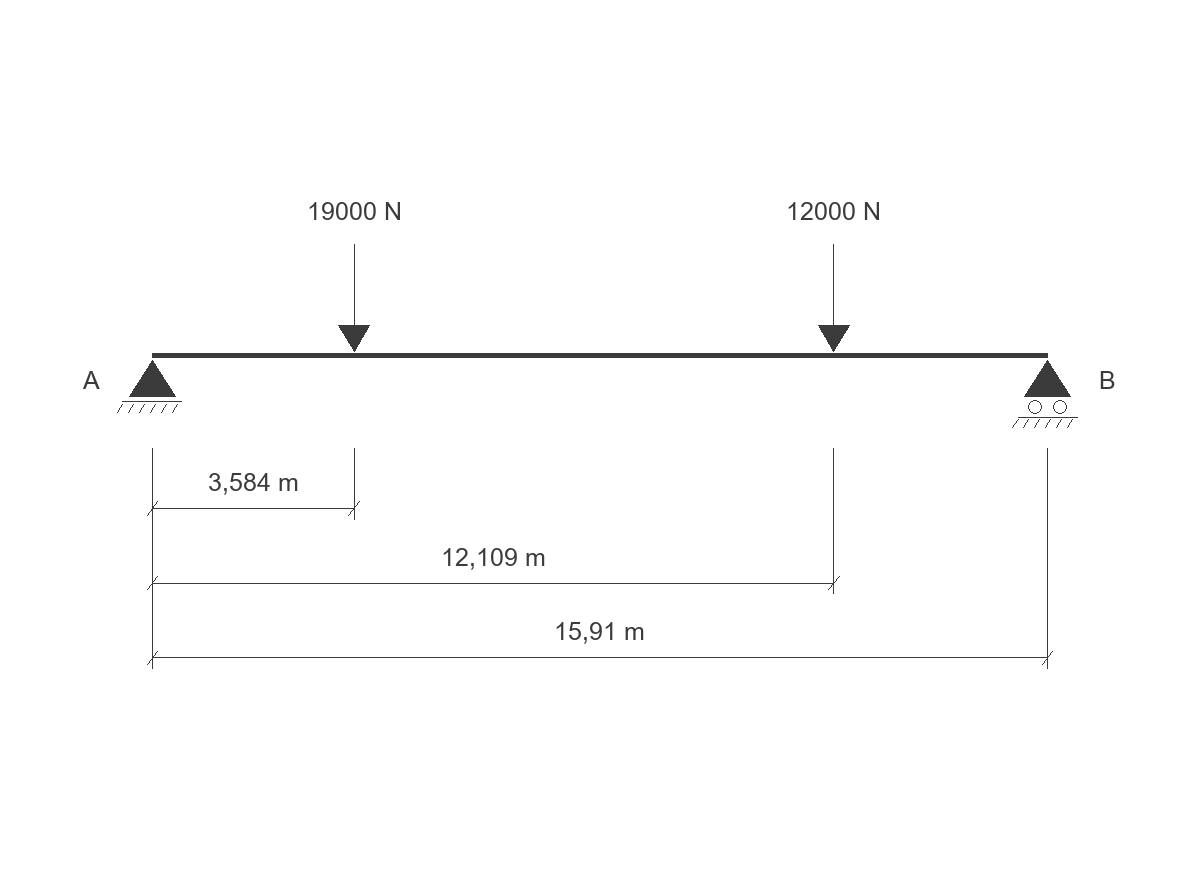pin_support: (117, 360, 182, 413)
point_load: (338, 244, 370, 352), (818, 244, 850, 352)
roller_support: (1012, 360, 1078, 428)
